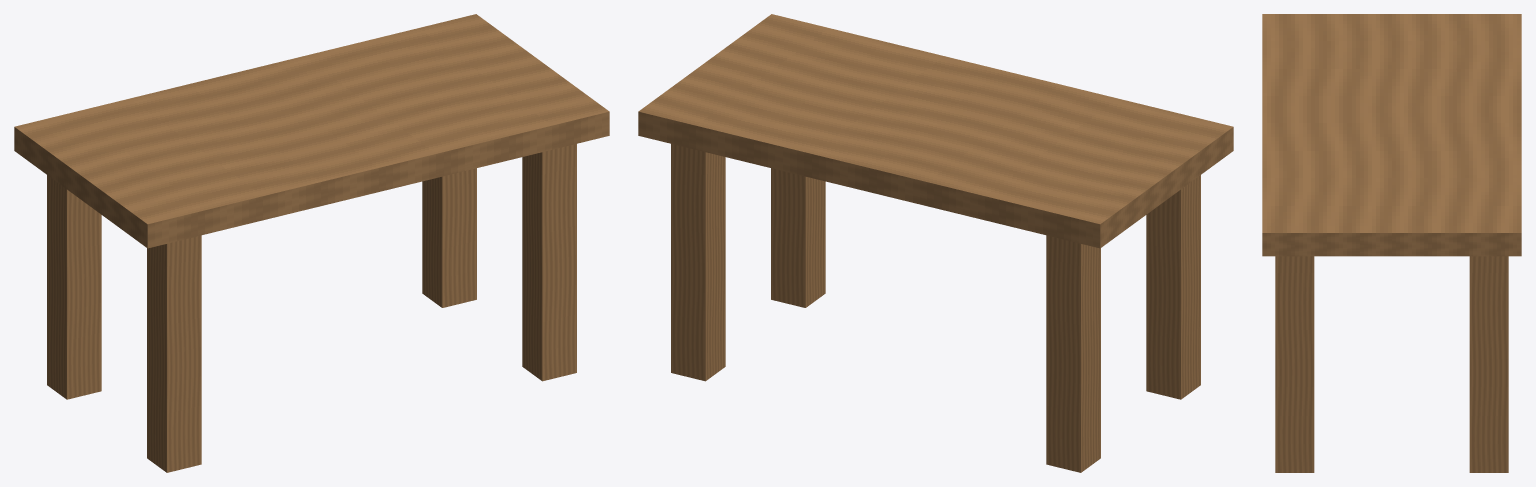
3 renders of one model, left to right at view 1: azimuth 30°, elevation 25°; view 2: azimuth 150°, elevation 25°; view 3: azimuth 270°, elevation 25°, orthographic. The views are drawn at different scales.
Parts seen in each view (by area): view 1: Schwerer Hütten-Eichentisch; view 2: Schwerer Hütten-Eichentisch; view 3: Schwerer Hütten-Eichentisch.
Boxes of the visible parts, x1,y1,x2,y2 form: Schwerer Hütten-Eichentisch: [14, 14, 609, 472]; Schwerer Hütten-Eichentisch: [638, 14, 1233, 472]; Schwerer Hütten-Eichentisch: [1262, 14, 1521, 472].
Size of the model in its own units: 1.6 by 0.86 by 0.8.
1 material, 1 textured.
